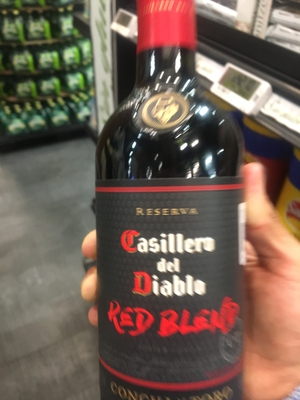casillero del diablo red blend: (91, 11, 247, 400)
